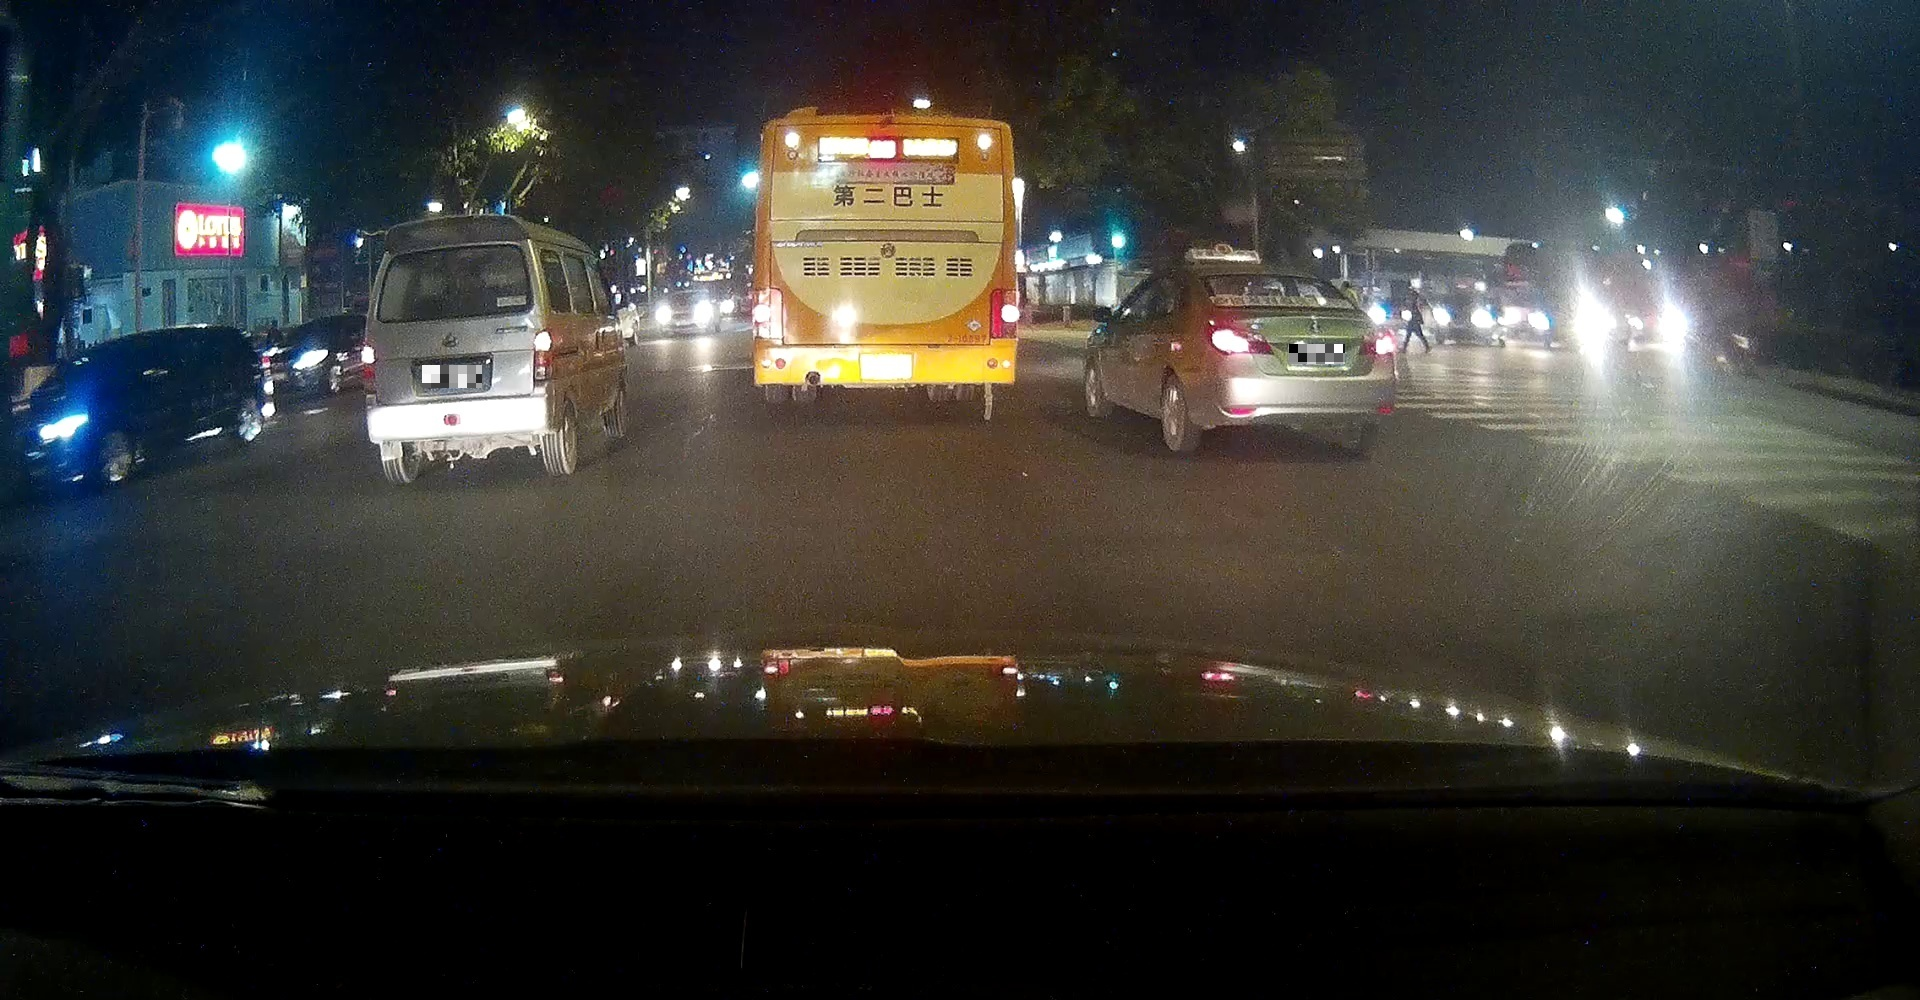L_light: (1206, 324, 1272, 355), (754, 291, 783, 338), (363, 343, 376, 393)
R_light: (990, 288, 1018, 338), (533, 329, 552, 379), (1365, 330, 1398, 355)
T_light: (870, 124, 905, 137), (437, 249, 462, 256), (1266, 275, 1291, 282)
night-no: (750, 114, 1020, 402), (362, 213, 557, 484), (1196, 258, 1401, 456)
plate_1: (422, 365, 483, 388)
plate_2: (1289, 344, 1345, 364)
